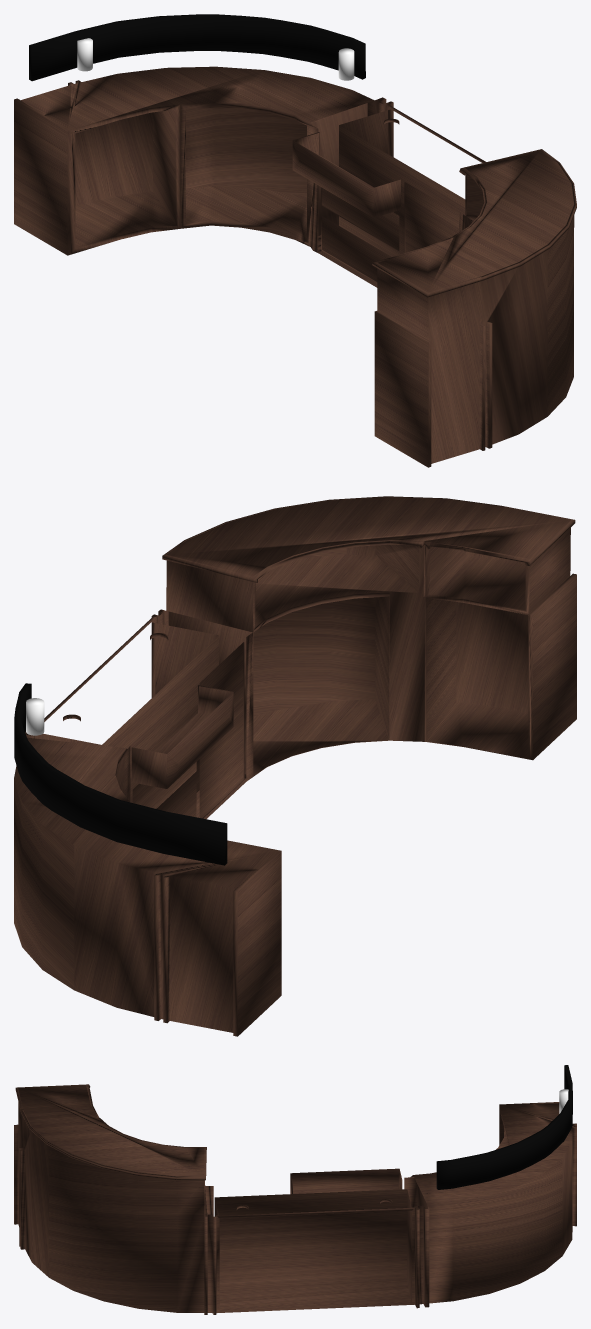
The model's file is Recepion.obj.
3 renders of one model, top to bottom at view 1: azimuth 30°, elevation 25°; view 2: azimuth 150°, elevation 25°; view 3: azimuth 270°, elevation 25°, orthographic. The views are drawn at different scales.
Parts seen in each view (by area): view 1: Recepion:Line004; view 2: Recepion:Line004; view 3: Recepion:Line004.
Part boxes in pixels (left/top/right/bottom): Recepion:Line004: left=14, top=14, right=576, bottom=467; Recepion:Line004: left=14, top=496, right=576, bottom=1036; Recepion:Line004: left=14, top=1065, right=576, bottom=1314.
Size of the model in its own units: 10.4 by 5.89 by 21.49.
